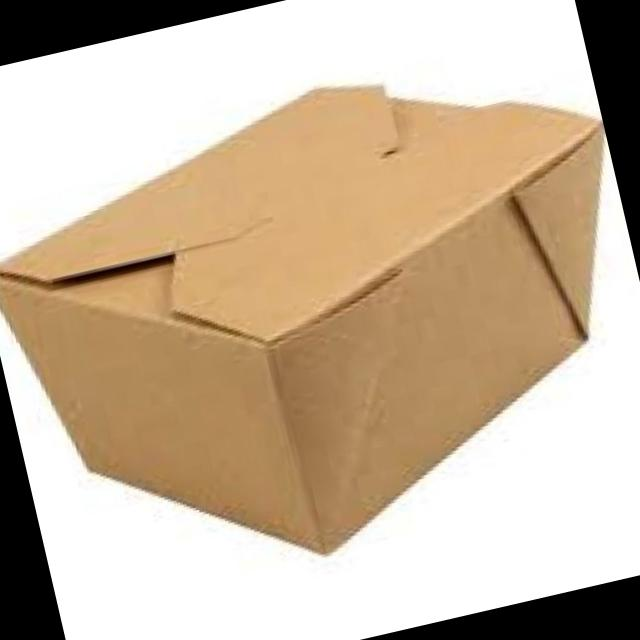cardboard paper: (0, 84, 600, 550)
